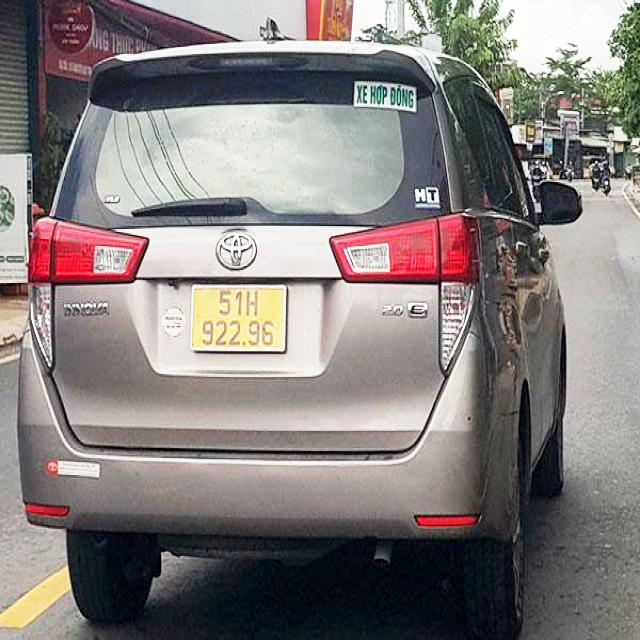license_plate: (192, 285, 286, 354)
